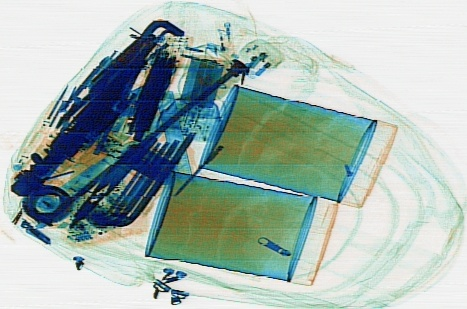lighter: (213, 15, 237, 90)
